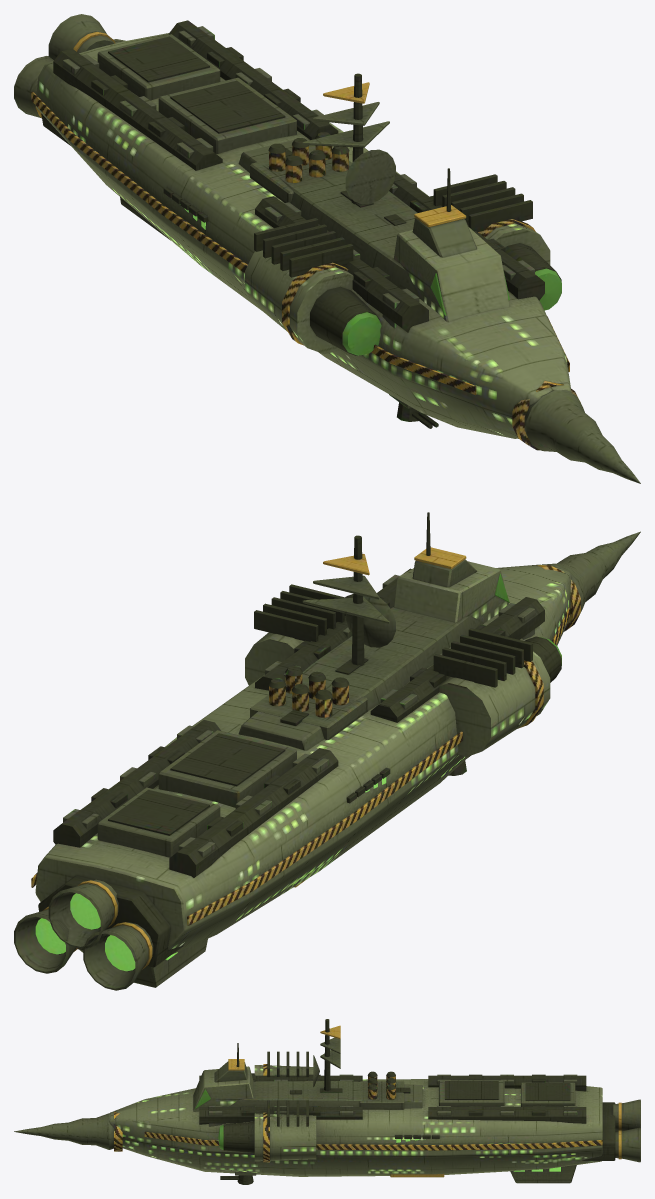
The model's file is krell_frigate.glb.
The picture shows the model from 3 angles, top to bottom: view 1: azimuth 30°, elevation 25°; view 2: azimuth 150°, elevation 25°; view 3: azimuth 270°, elevation 25°; orthographic projection. The views are drawn at different scales.
Visible parts, largest first — view 1: HULL, SYS_WPN2, SYS_BUS_A, SYS_BRIDGE, SYS_BUS_F, SYS_WPN1, SYS_SENSORS, SYS_MSL, SYS_DRIVE; view 2: HULL, SYS_DRIVE, SYS_WPN2, SYS_BUS_A, SYS_BRIDGE, SYS_BUS_F, SYS_WPN1, SYS_SENSORS, SYS_MSL, SYS_JUMP; view 3: HULL, SYS_WPN1, SYS_BUS_A, SYS_BUS_F, SYS_DRIVE, SYS_BRIDGE, SYS_MSL, SYS_SENSORS, SYS_JUMP, SYS_WPN2, SYS_REACTOR, SYS_PD.
Part boxes in pixels (x1=…): HULL: x1=31, y1=33, x2=640, y2=483; SYS_WPN2: x1=245, y1=218, x2=381, y2=355; SYS_BUS_A: x1=53, y1=20, x2=338, y2=170; SYS_BRIDGE: x1=393, y1=168, x2=509, y2=321; SYS_BUS_F: x1=255, y1=173, x2=544, y2=332; SYS_WPN1: x1=433, y1=174, x2=561, y2=310; SYS_SENSORS: x1=302, y1=73, x2=395, y2=204; SYS_MSL: x1=250, y1=132, x2=352, y2=202; SYS_DRIVE: x1=14, y1=14, x2=125, y2=145; HULL: x1=31, y1=531, x2=640, y2=954; SYS_DRIVE: x1=14, y1=875, x2=183, y2=990; SYS_WPN2: x1=433, y1=628, x2=561, y2=756; SYS_BUS_A: x1=53, y1=720, x2=338, y2=877; SYS_BRIDGE: x1=393, y1=512, x2=509, y2=622; SYS_BUS_F: x1=255, y1=568, x2=544, y2=722; SYS_WPN1: x1=245, y1=584, x2=353, y2=685; SYS_SENSORS: x1=302, y1=535, x2=395, y2=665; SYS_MSL: x1=250, y1=666, x2=367, y2=739; SYS_JUMP: x1=134, y1=939, x2=207, y2=987; HULL: x1=14, y1=1079, x2=602, y2=1176; SYS_WPN1: x1=218, y1=1100, x2=316, y2=1162; SYS_BUS_A: x1=428, y1=1074, x2=586, y2=1123; SYS_BUS_F: x1=199, y1=1074, x2=362, y2=1126; SYS_DRIVE: x1=582, y1=1099, x2=640, y2=1162; SYS_BRIDGE: x1=193, y1=1043, x2=253, y2=1111; SYS_MSL: x1=359, y1=1071, x2=404, y2=1109; SYS_SENSORS: x1=313, y1=1019, x2=340, y2=1090; SYS_JUMP: x1=510, y1=1165, x2=576, y2=1183; SYS_WPN2: x1=251, y1=1051, x2=313, y2=1076; SYS_REACTOR: x1=390, y1=1135, x2=444, y2=1177; SYS_PD: x1=220, y1=1171, x2=256, y2=1184.
Size of the model in its own units: 8.98 by 9.62 by 34.42.
Materials: 1 (1 with a texture image).
